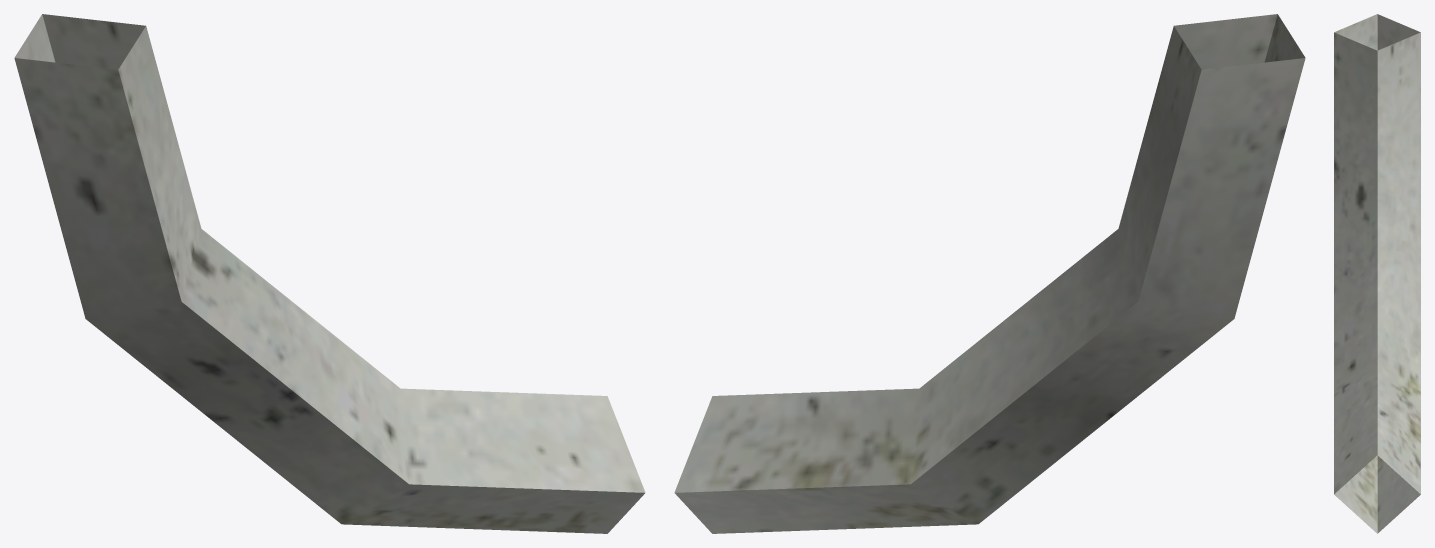
Rendered from p6_garage_pipes_90deg03_LOD2.obj.
The picture shows the model from 3 angles, left to right: view 1: azimuth 30°, elevation 25°; view 2: azimuth 150°, elevation 25°; view 3: azimuth 270°, elevation 25°; orthographic projection. The views are drawn at different scales.
Visible parts, largest first — view 1: mtl_p6_pipes_garage; view 2: mtl_p6_pipes_garage; view 3: mtl_p6_pipes_garage.
Boxes of the visible parts, x1=… form: mtl_p6_pipes_garage: x1=14, y1=14, x2=645, y2=533; mtl_p6_pipes_garage: x1=674, y1=14, x2=1305, y2=533; mtl_p6_pipes_garage: x1=1334, y1=14, x2=1420, y2=533.
Size of the model in its own units: 22.86 by 22.86 by 5.08.
